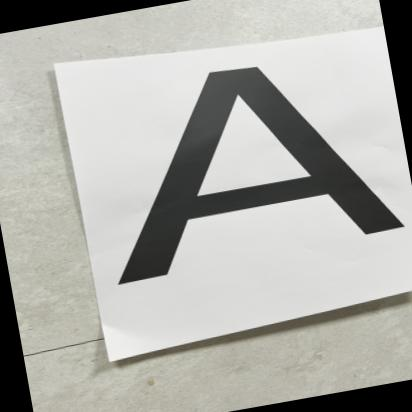seat: (75, 31, 412, 288), (74, 31, 404, 286)
